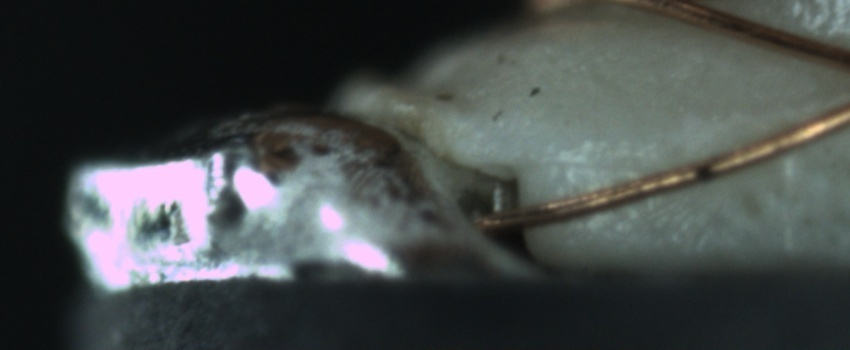DL: (541, 136, 667, 191)
